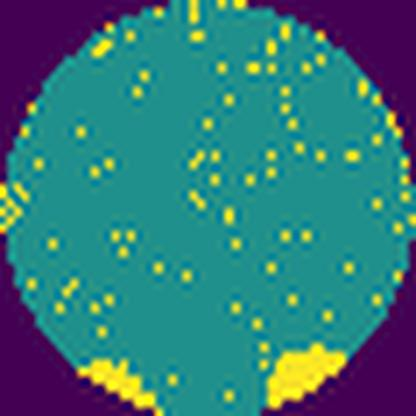Edge-Loc: (253, 337, 354, 410), (70, 347, 163, 413)
